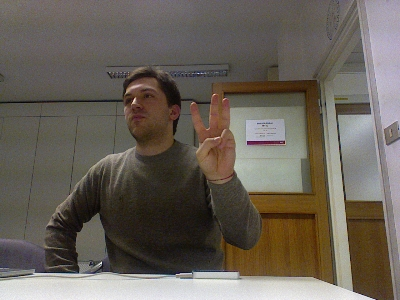三分: (189, 93, 235, 180)
